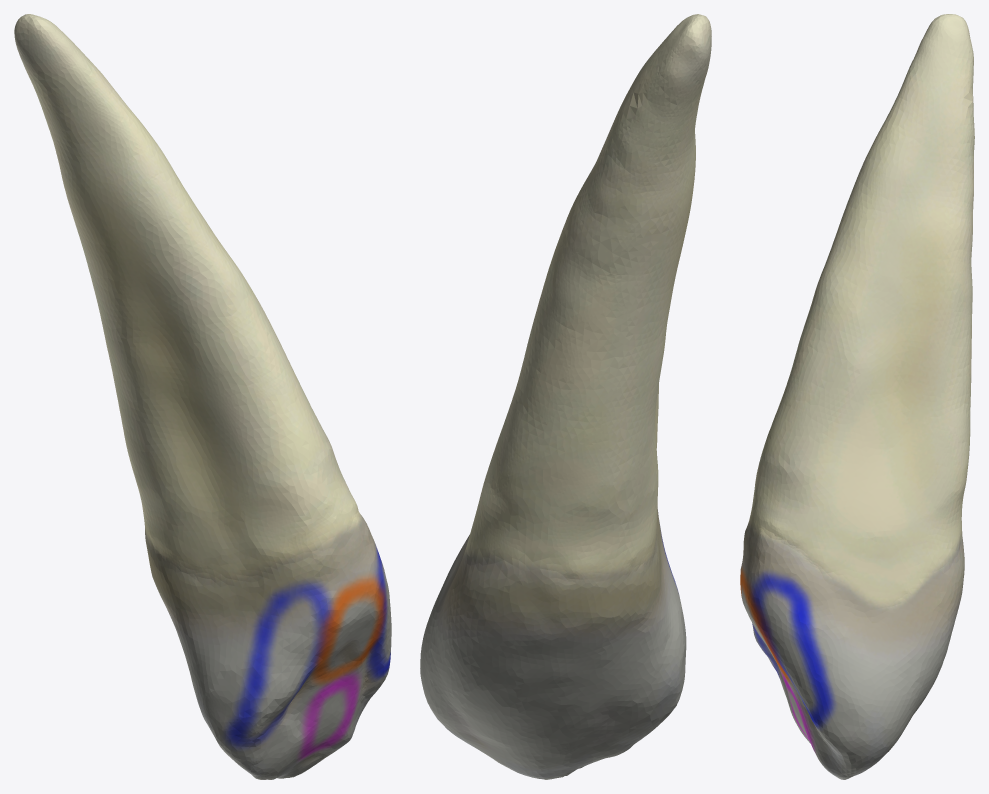
File: 23 - canino superior esquerdo - face palatina.glb
3 renders of one model, left to right at view 1: azimuth 30°, elevation 25°; view 2: azimuth 150°, elevation 25°; view 3: azimuth 270°, elevation 25°, orthographic. The views are drawn at different scales.
Parts seen in each view (by area): view 1: 3MFMeshParent_0; view 2: 3MFMeshParent_0; view 3: 3MFMeshParent_0.
Part boxes in pixels (box(x1,y1,x2,y2)): 3MFMeshParent_0: box(14, 14, 391, 779); 3MFMeshParent_0: box(420, 14, 711, 779); 3MFMeshParent_0: box(740, 14, 974, 779).
Bounding box in the file's own units: 0.5512 × 1.33 × 0.4195.
1 material, 1 textured.
